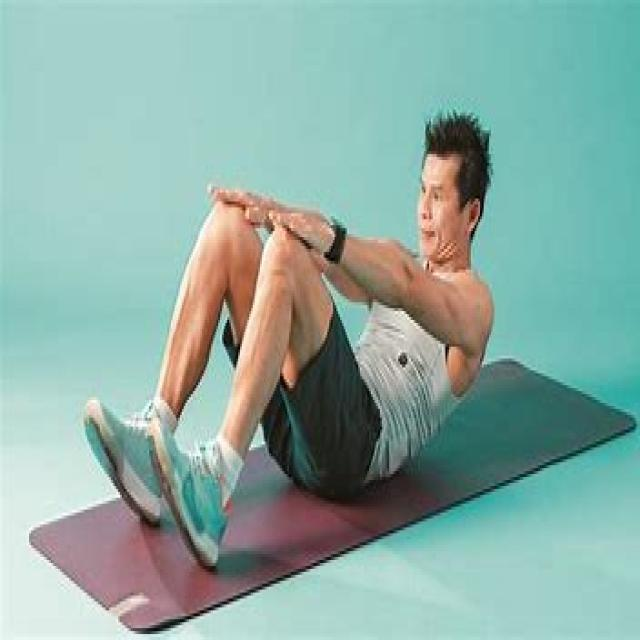lie: (118, 138, 532, 478)
